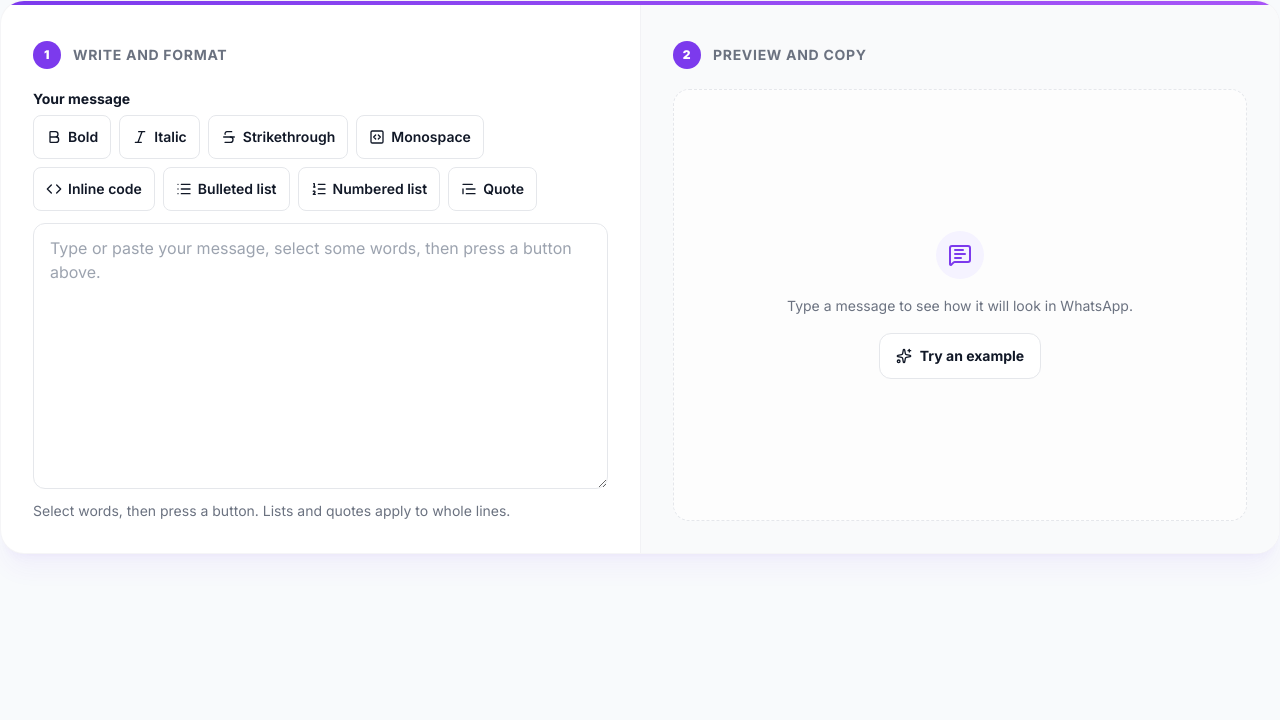
Test: TextFormatter › wraps the selected words and keeps them selected
Replace the text in the text box labelled "Your message" with "Sale ends Friday" at (320, 356), box [33,223,608,489]
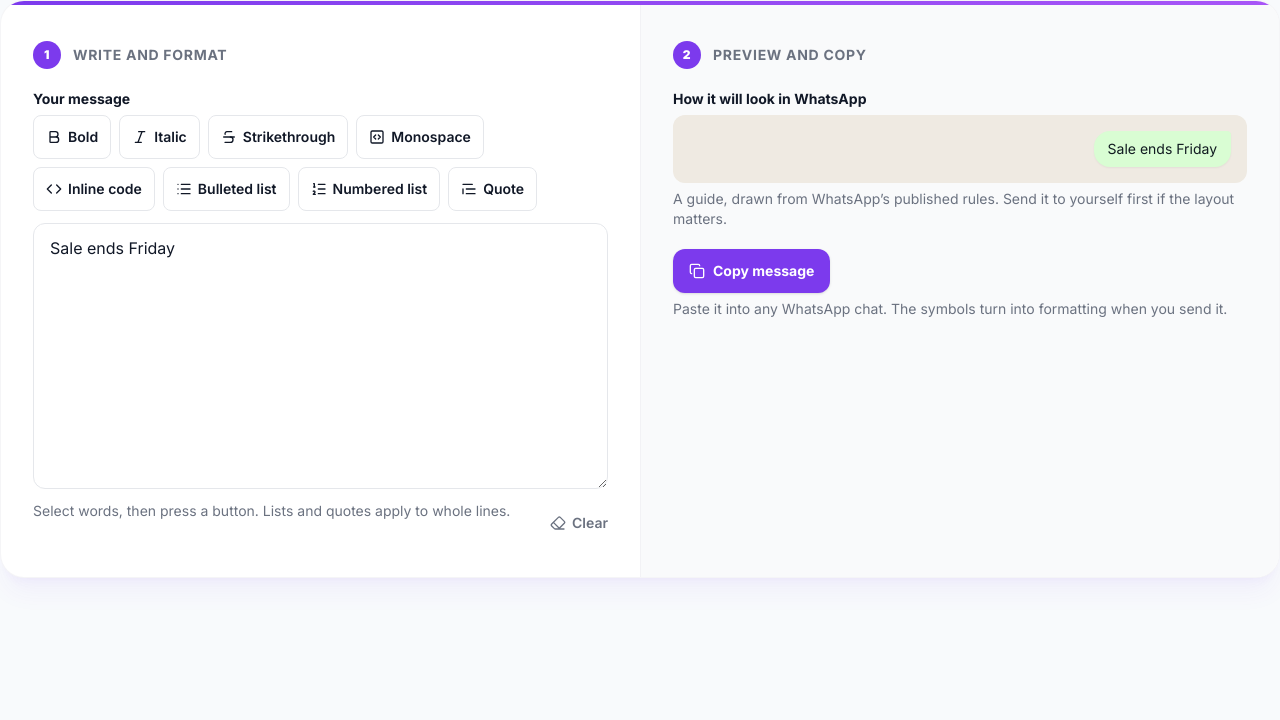
Click the button "Bold".
click(72, 137)  # box [33,115,111,159]
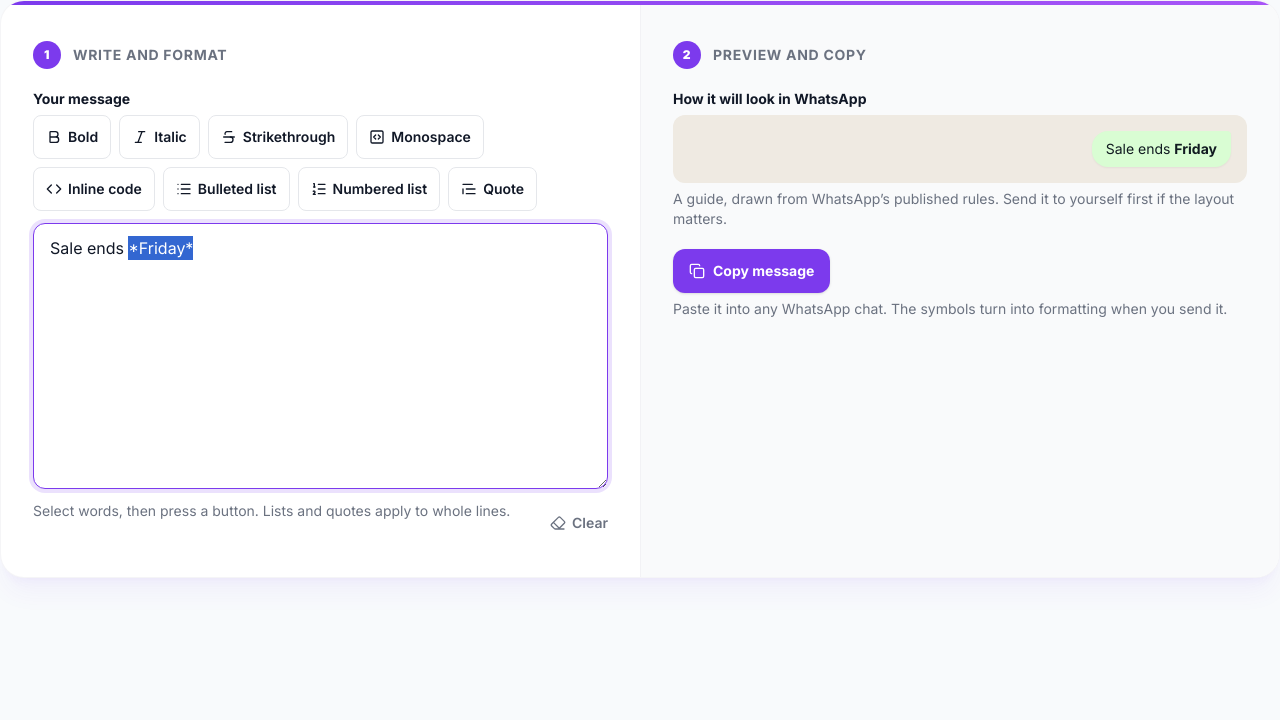
Expected: the text box labelled "Your message" holds "Sale ends *Friday*", [33,223,608,489]
